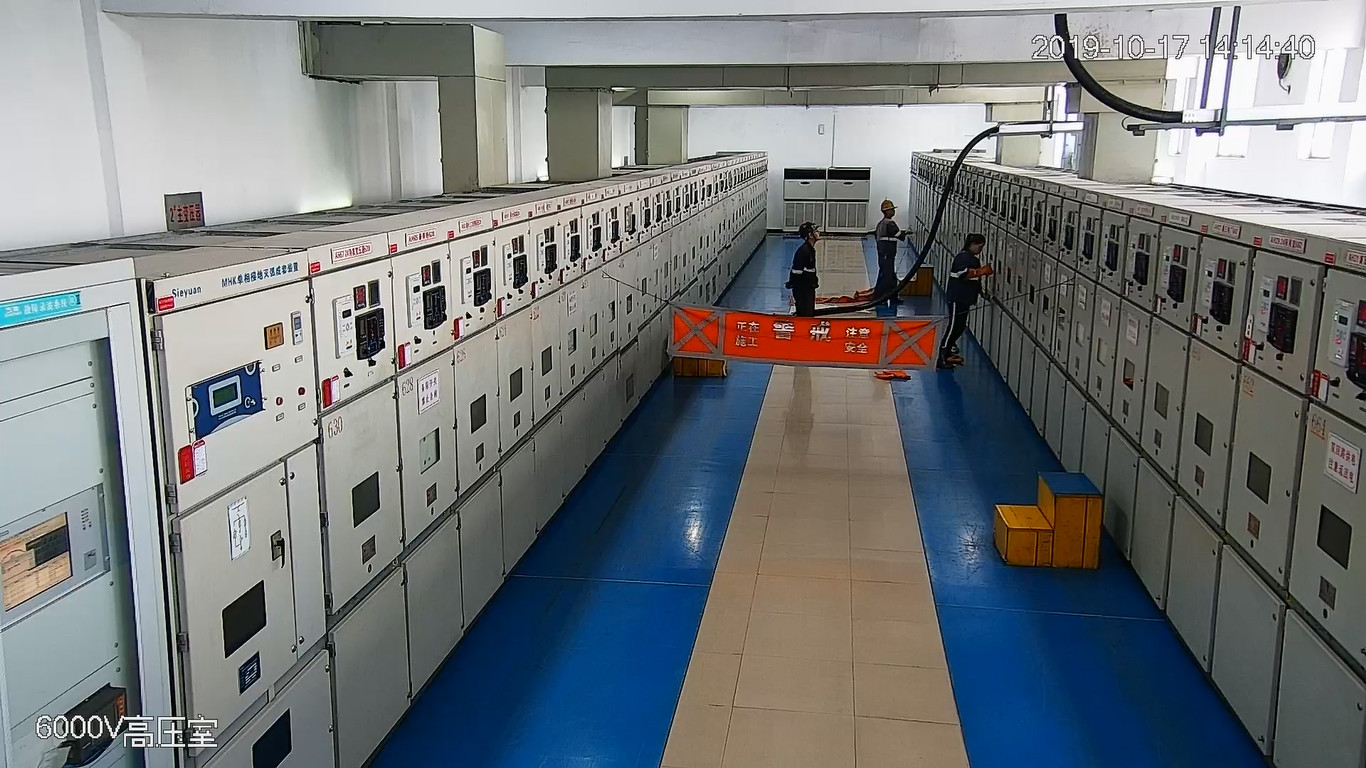helmet: (798, 221, 820, 239), (880, 199, 897, 211)
